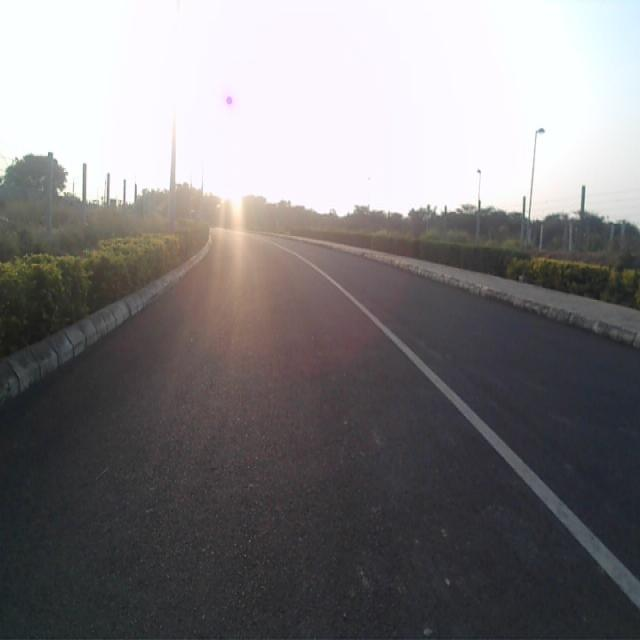lane: (0, 242, 640, 640)
